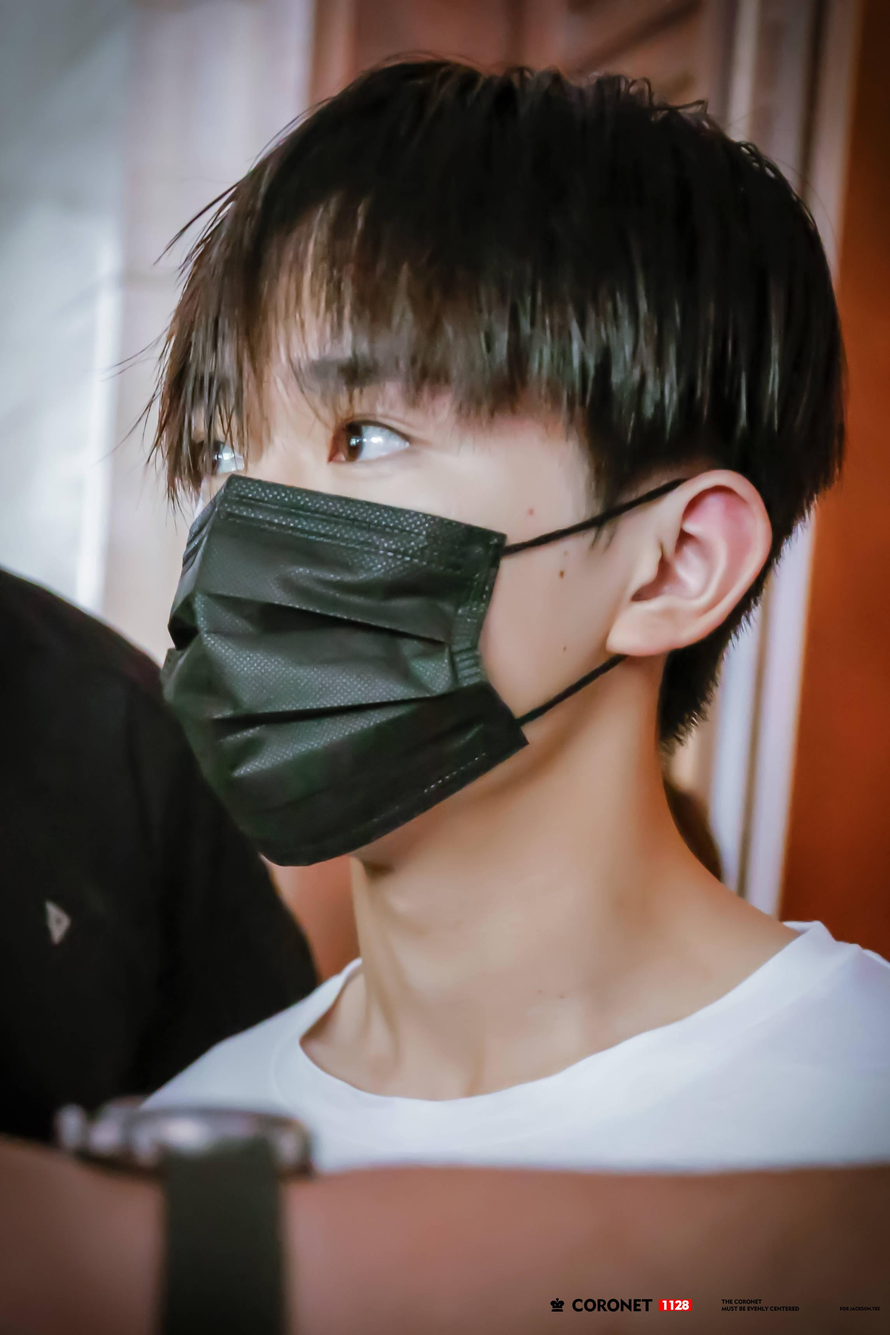OK: (159, 356, 530, 865)
